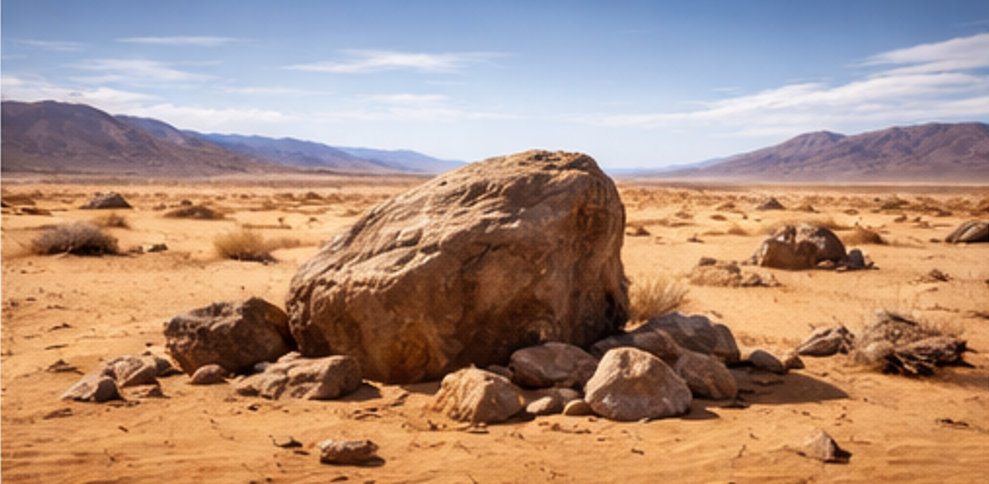rocks: (288, 150, 625, 382), (163, 297, 293, 374), (585, 346, 691, 420), (233, 353, 362, 398), (427, 366, 522, 423), (62, 356, 160, 402), (750, 225, 845, 269), (509, 341, 596, 387), (674, 351, 736, 398), (795, 325, 853, 356), (320, 438, 379, 464), (944, 220, 988, 242), (80, 191, 132, 207)
